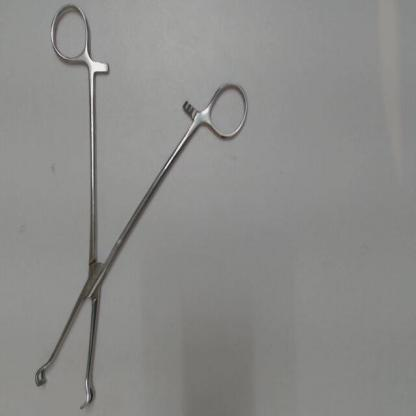8 Babcock Tissue Forceps: (26, 3, 256, 414)
